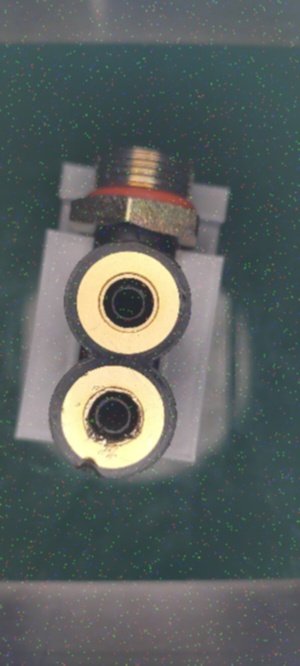bump: (70, 450, 104, 480)
craze: (129, 227, 143, 240)
